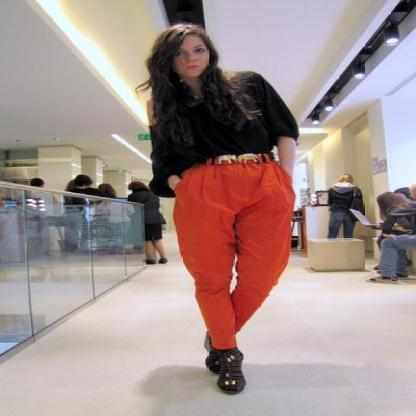pants: (172, 158, 304, 354)
shirt: (151, 66, 298, 180)
shoe: (206, 346, 244, 394)
